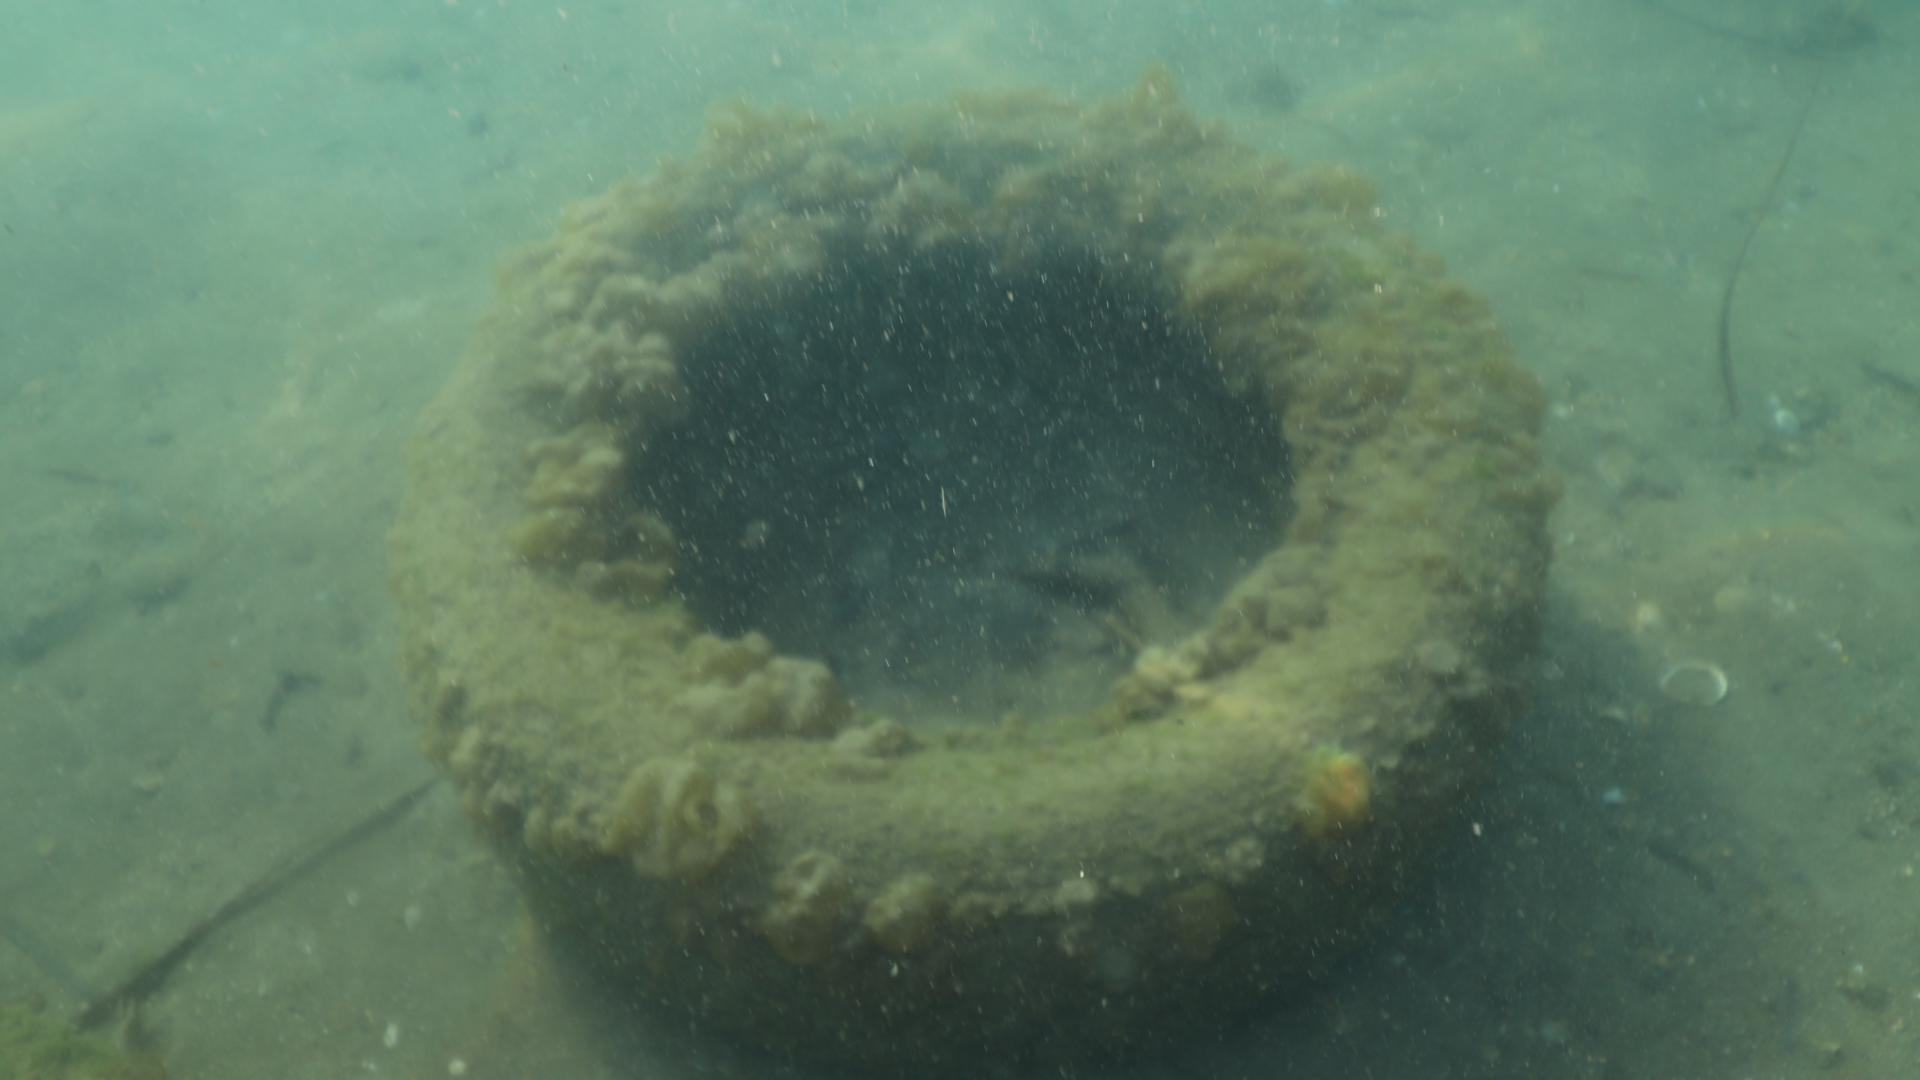tire: (401, 87, 1548, 1050)
